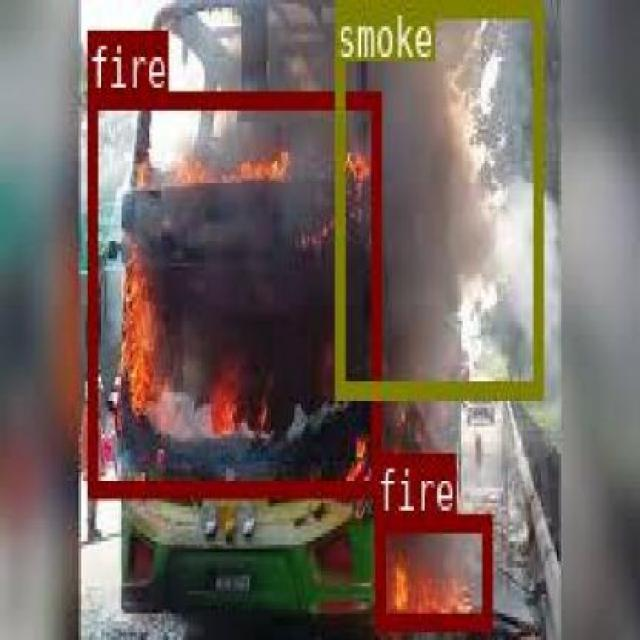Fire: (86, 89, 380, 494), (374, 510, 491, 624)
Smoke: (334, 0, 542, 392)
